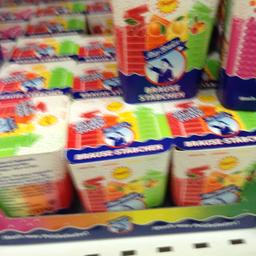candy: (70, 94, 168, 217), (164, 92, 252, 214), (114, 1, 212, 104), (0, 98, 71, 216), (216, 0, 255, 99)
